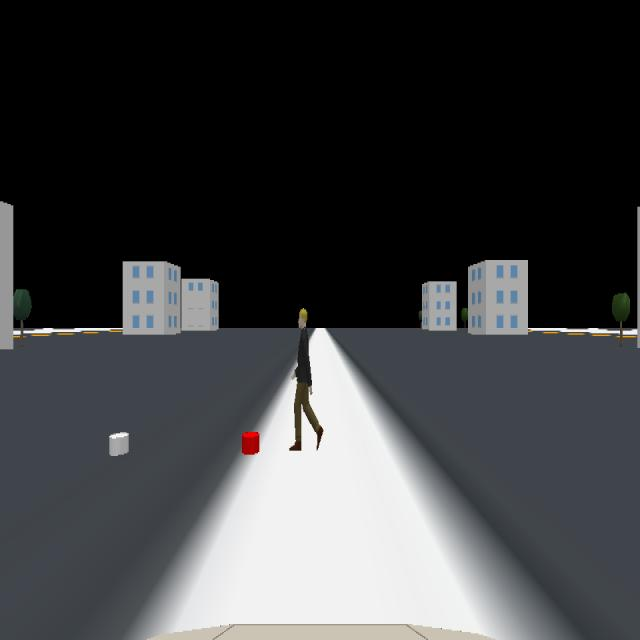human: (289, 307, 323, 452)
